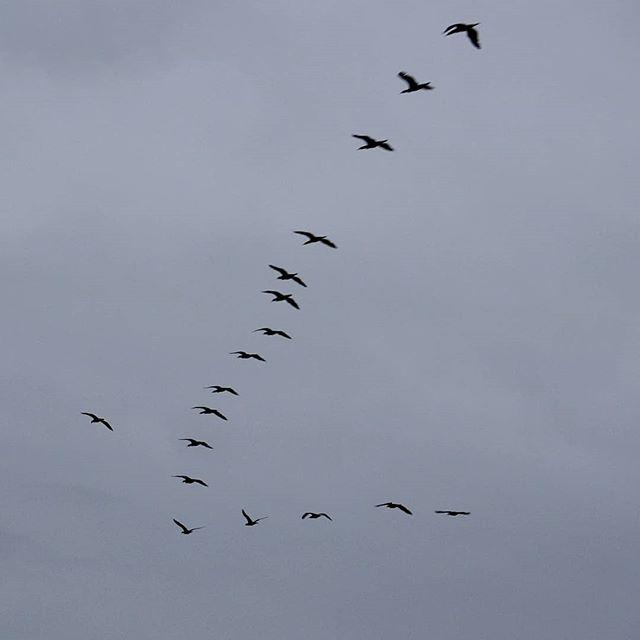bird: (442, 16, 483, 54), (292, 226, 340, 252), (261, 286, 305, 311), (396, 70, 434, 98), (350, 132, 394, 156), (265, 261, 306, 286), (375, 497, 414, 520), (191, 402, 231, 424), (254, 323, 292, 342), (179, 434, 214, 452), (230, 347, 267, 364), (81, 413, 114, 432), (434, 506, 472, 522), (176, 473, 210, 490), (239, 507, 265, 529), (208, 380, 240, 397), (172, 520, 202, 536), (300, 509, 332, 524)
